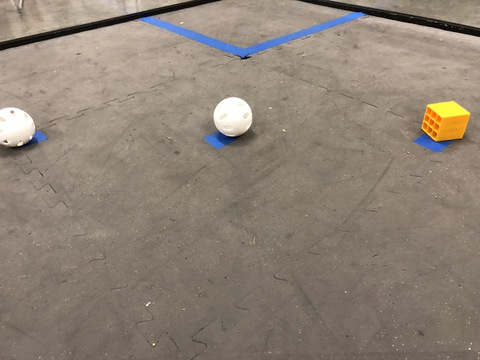ball: (207, 92, 266, 152), (1, 102, 43, 160)
block: (418, 95, 473, 147)
